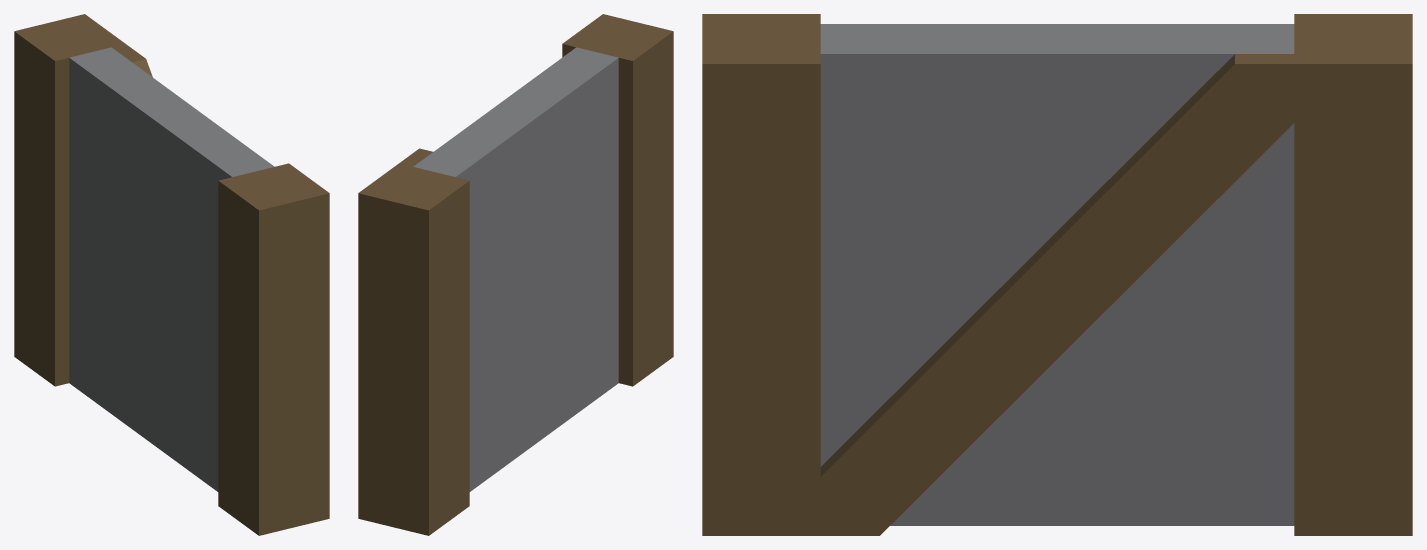
Rendered from Wood_Wall_Cross_01.obj.
3 renders of one model, left to right at view 1: azimuth 30°, elevation 25°; view 2: azimuth 150°, elevation 25°; view 3: azimuth 270°, elevation 25°, orthographic. The views are drawn at different scales.
Parts seen in each view (by area): view 1: Mesh1_Wood_Wall_Cross_Model; view 2: Mesh1_Wood_Wall_Cross_Model; view 3: Mesh1_Wood_Wall_Cross_Model.
Boxes of the visible parts, bbox=[...] form: Mesh1_Wood_Wall_Cross_Model: bbox=[14, 14, 329, 535]; Mesh1_Wood_Wall_Cross_Model: bbox=[358, 14, 673, 535]; Mesh1_Wood_Wall_Cross_Model: bbox=[702, 14, 1412, 535].
Bounding box in the file's own units: 0.5 × 2.2 × 3.
